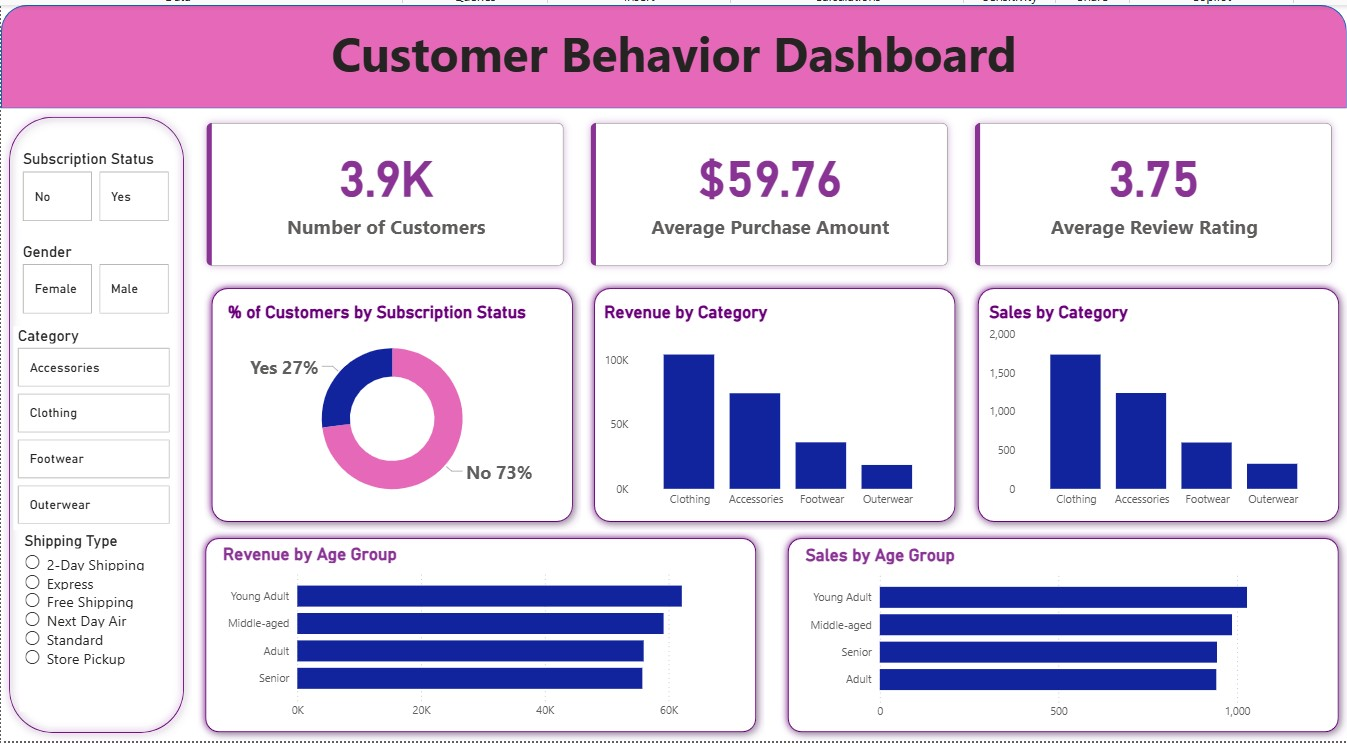

The page's visual inventory and layout, read from the dashboard file:
{"tool":"powerbi","page":{"name":"Page 1","canvas":[1500,820],"ordinal":0},"visuals":[{"type":"cardVisual","fields":{"Data":["public customer.Number of Customers","public customer.Average Purchase Amount","public customer.Average Review Rating"]},"box":[212.9,115.3,1286.5,191.6],"z":2000},{"type":"shape","box":[218.3,585.6,631.7,234.2],"z":2500,"group":"g1"},{"type":"shape","box":[0,0,1499.4,115.3],"z":3000},{"type":"textbox","box":[0,12.4,1499.4,102.9],"z":4000},{"type":"shape","box":[225.4,307,420.5,278.6],"z":5000},{"type":"donutChart","title":"% of Customers by Subscription Status","fields":{"Category":["public customer.subscription_status"],"Y":["CountNonNull(public customer.customer_id)"]},"box":[248.4,331.8,376.2,237.8],"z":6000},{"type":"shape","box":[1078.9,307,420.5,278.6],"z":7000},{"type":"shape","box":[652.1,307,420.5,278.6],"z":8000},{"type":"clusteredColumnChart","title":"Revenue by Category","fields":{"Y":["Sum(public customer.purchase_amount)"],"Category":["public customer.category"]},"box":[667.2,331.8,385.1,237.8],"z":9000},{"type":"clusteredColumnChart","title":"Sales by Category","fields":{"Y":["CountNonNull(public customer.customer_id)"],"Category":["public customer.category"]},"box":[1096.6,331.8,385.1,237.8],"z":10000},{"type":"shape","box":[0,115.3,212.9,704.5],"z":11000},{"type":"advancedSlicerVisual","fields":{"Values":["public customer.subscription_status"]},"box":[19.5,161.5,173.9,85.2],"z":12000},{"type":"advancedSlicerVisual","fields":{"Values":["public customer.gender"]},"box":[19.5,264.4,173.9,85.2],"z":13000},{"type":"advancedSlicerVisual","fields":{"Values":["public customer.category"]},"box":[13.9,357.9,179.7,227],"z":14000},{"type":"listSlicer","fields":{"Values":["public customer.shipping_type"]},"box":[20.9,586.3,158.8,200.5],"z":15000},{"type":"shape","box":[867.7,585.6,631.7,234.2],"z":16000},{"type":"clusteredBarChart","title":"Sales by Age Group","fields":{"Y":["CountNonNull(public customer.customer_id)"],"Category":["public customer.age_group"]},"box":[890.8,601.5,585.6,204.1],"z":17000},{"type":"clusteredBarChart","title":"Revenue by Age Group","fields":{"Y":["Sum(public customer.purchase_amount)"],"Category":["public customer.age_group"]},"box":[241.4,601.6,585.6,204.1],"z":17500,"group":"g1"},{"type":"group","id":"g1","title":"Group 1","box":[218.3,585.6,631.7,234.2],"z":17501}]}

Visuals, with their boxes in screenshot pixels (x1, y1, x2, y2):
cardVisual - public customer.Number of Customers x public customer.Average Purchase Amount: 199,106,1346,282
shape: 204,538,784,746
shape: 4,0,1346,106
textbox: 4,11,1346,106
shape: 210,282,597,538
"% of Customers by Subscription Status" donutChart: 232,305,577,523
shape: 994,282,1346,538
shape: 602,282,988,538
"Revenue by Category" clusteredColumnChart: 616,305,970,523
"Sales by Category" clusteredColumnChart: 1010,305,1346,523
shape: 4,106,199,746
advancedSlicerVisual - public customer.subscription_status: 21,148,181,227
advancedSlicerVisual - public customer.gender: 21,243,181,321
advancedSlicerVisual - public customer.category: 16,329,181,537
listSlicer - public customer.shipping_type: 23,538,168,722
shape: 800,538,1346,746
"Sales by Age Group" clusteredBarChart: 821,552,1346,740
"Revenue by Age Group" clusteredBarChart: 225,552,763,740
"Group 1" group: 204,538,784,746
